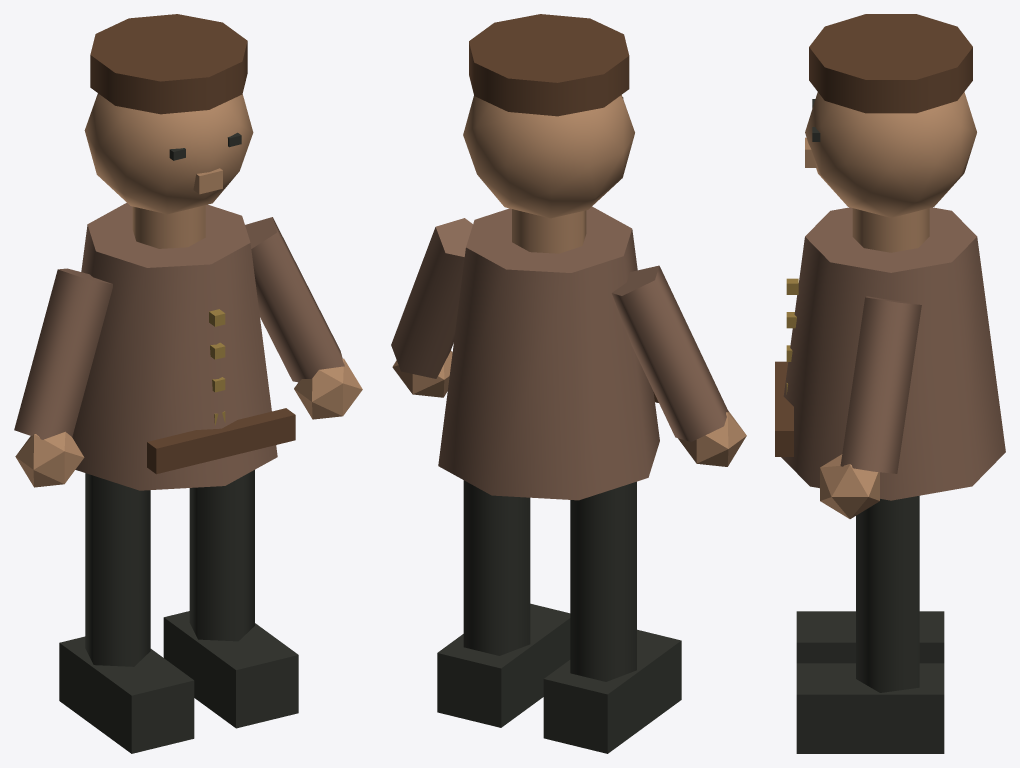
The model's file is custom-person-citizen.glb.
The picture shows the model from 3 angles, left to right: view 1: azimuth 30°, elevation 25°; view 2: azimuth 150°, elevation 25°; view 3: azimuth 270°, elevation 25°; orthographic projection. The views are drawn at different scales.
Parts seen in each view (by area): view 1: custom-person-citizen; view 2: custom-person-citizen; view 3: custom-person-citizen.
Part boxes in pixels (x1,y1,x2,y2): custom-person-citizen: (14, 14, 362, 753); custom-person-citizen: (391, 14, 746, 753); custom-person-citizen: (775, 14, 1005, 753).
Bounding box in the file's own units: 1 × 1.89 × 0.5949.
